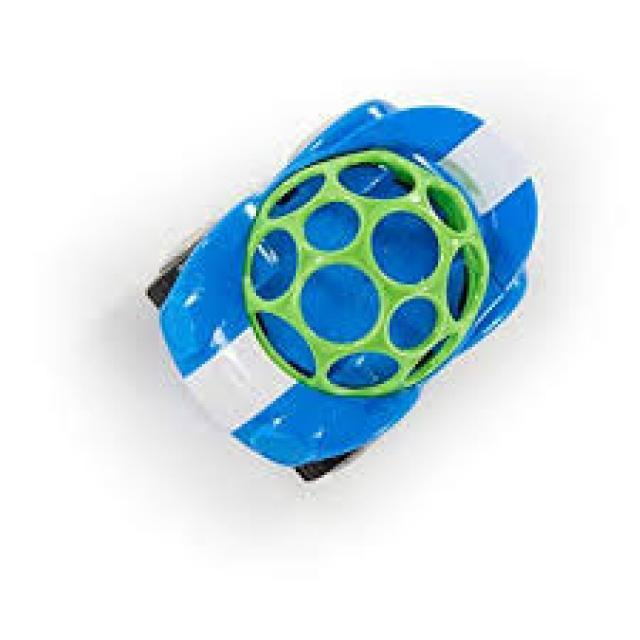hard-toy: (146, 101, 540, 481)
